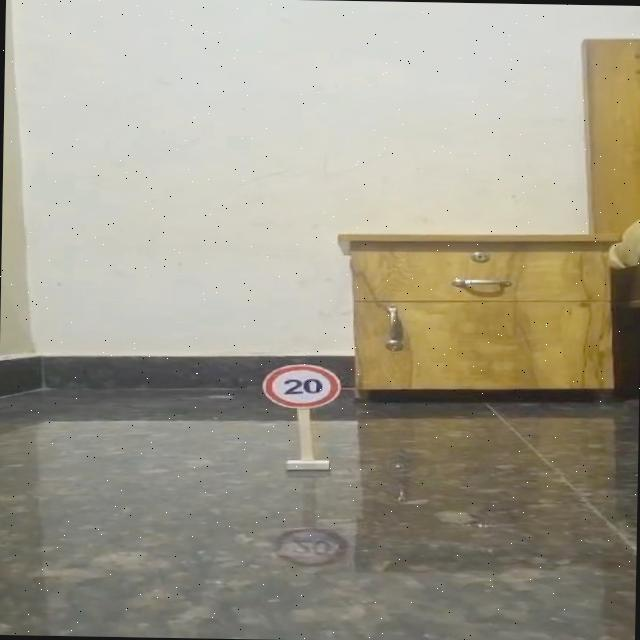Speed20: (246, 358, 354, 412)
